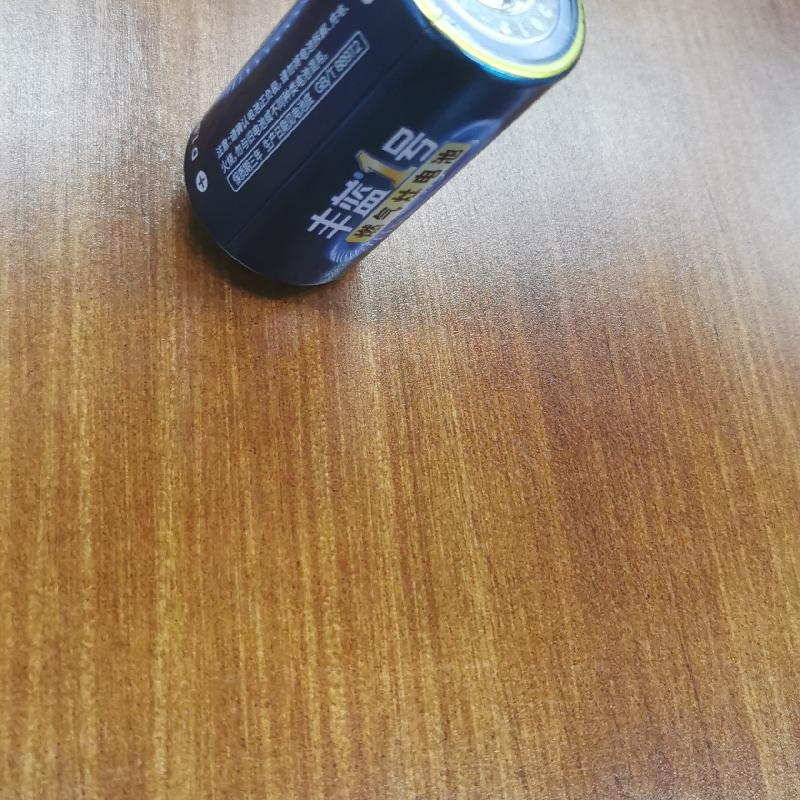battery: (175, 3, 586, 299)
